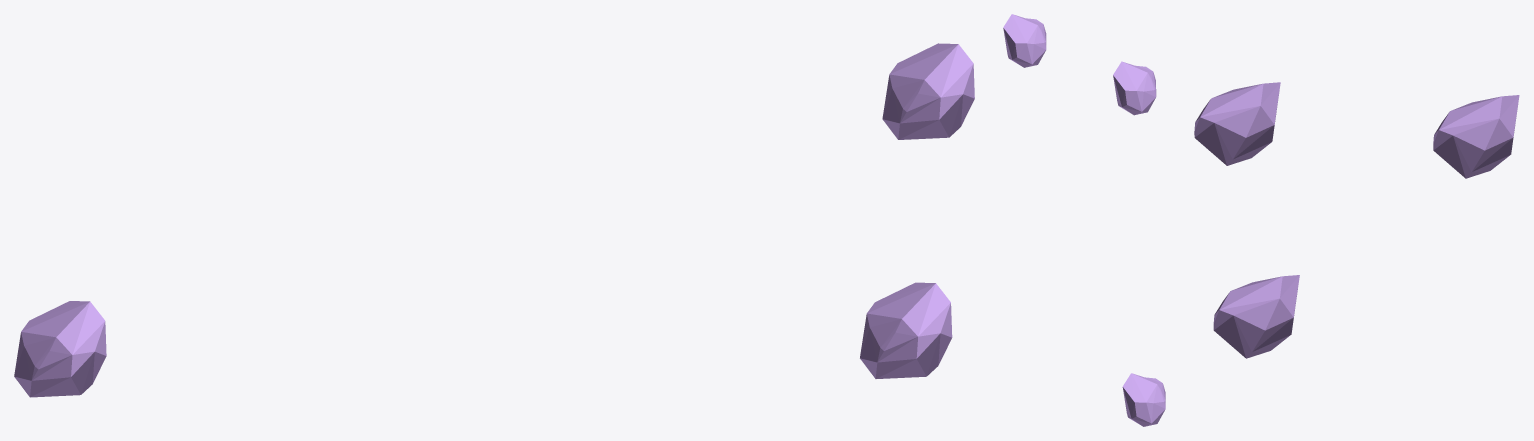
The model's file is cover_water.fbx.
The picture shows the model from 3 angles, left to right: view 1: azimuth 30°, elevation 25°; view 2: azimuth 150°, elevation 25°; view 3: azimuth 330°, elevation 25°; orthographic projection. The views are drawn at different scales.
Parts seen in each view (by area): view 1: small_rock4, small_rock5, small_rock3; view 2: small_rock4, small_rock3, small_rock5; view 3: small_rock5, small_rock3, small_rock4.
Boxes of the visible parts, bbox=[...] form: small_rock4: bbox=[882, 43, 974, 139]; small_rock5: bbox=[14, 301, 106, 397]; small_rock3: bbox=[860, 282, 952, 378]; small_rock4: bbox=[1003, 14, 1046, 67]; small_rock3: bbox=[1113, 61, 1156, 115]; small_rock5: bbox=[1122, 373, 1165, 426]; small_rock5: bbox=[1194, 82, 1280, 165]; small_rock3: bbox=[1213, 275, 1299, 358]; small_rock4: bbox=[1433, 95, 1519, 178].
Bounding box in the file's own units: 19.67 × 13.21 × 25.33.
